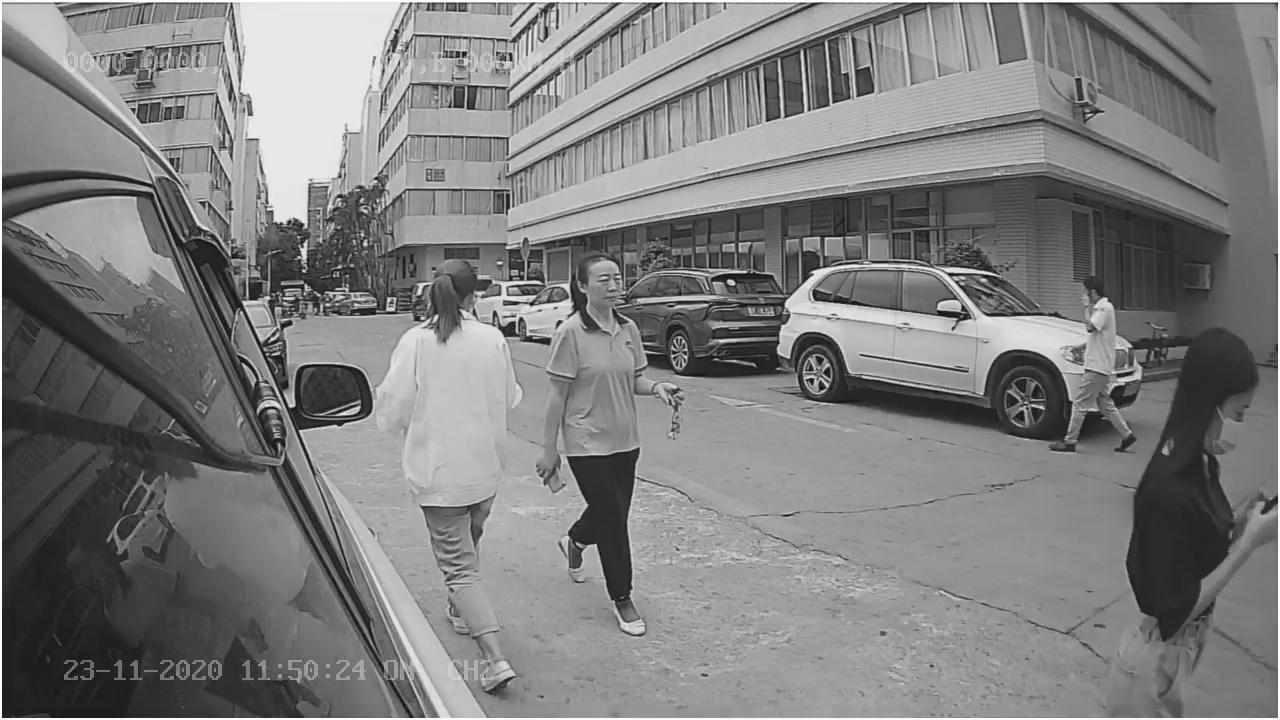person: (378, 248, 526, 455), (1042, 271, 1138, 462)
